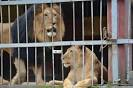lion: (3, 4, 62, 88), (58, 45, 107, 88)
